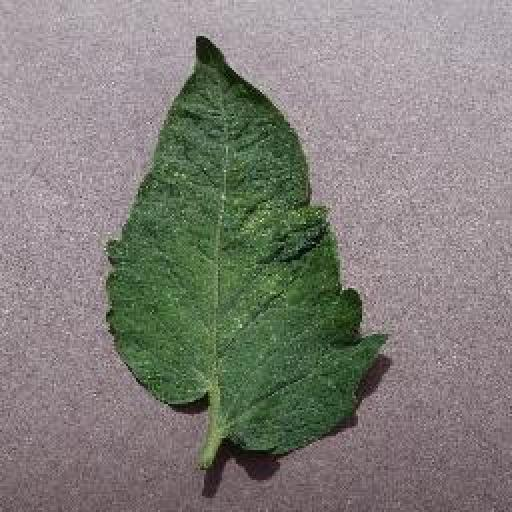Spider Mites: (108, 39, 391, 452)
